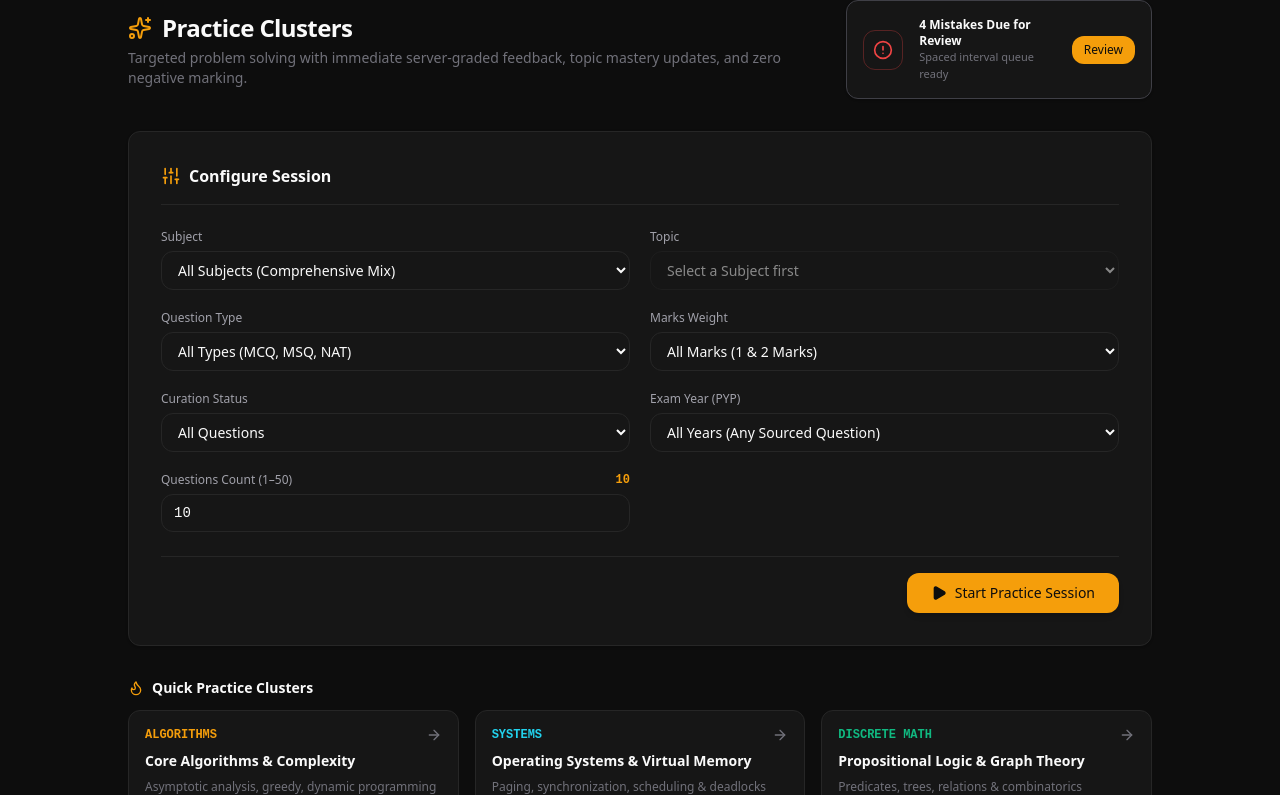
it: PracticePage › clamps question count input between 1 and 50
Step 1. Replace the text in the number field named "Question Count" with "999" → (396, 513), box [161, 494, 630, 532]
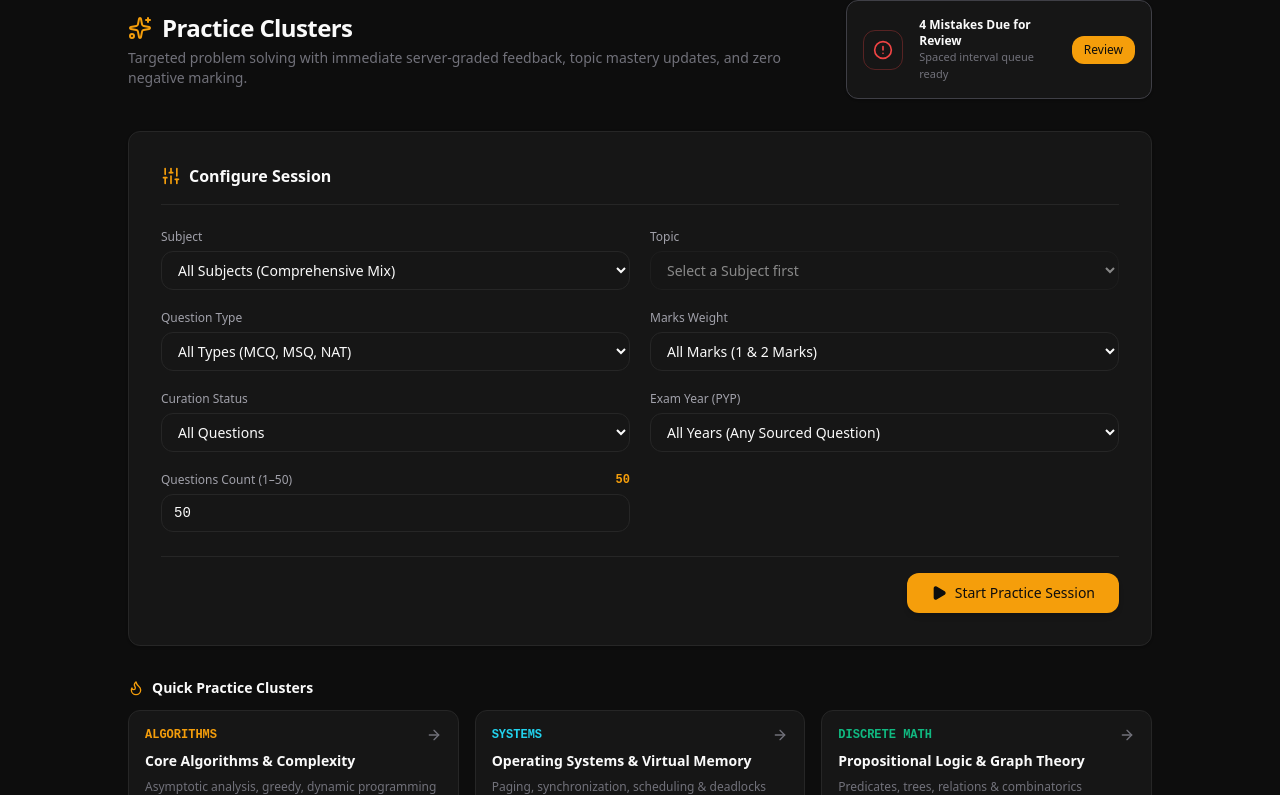
Check: the number field named "Question Count" holds "50"
Step 2. Replace the text in the number field named "Question Count" with "-5" → (396, 513), box [161, 494, 630, 532]
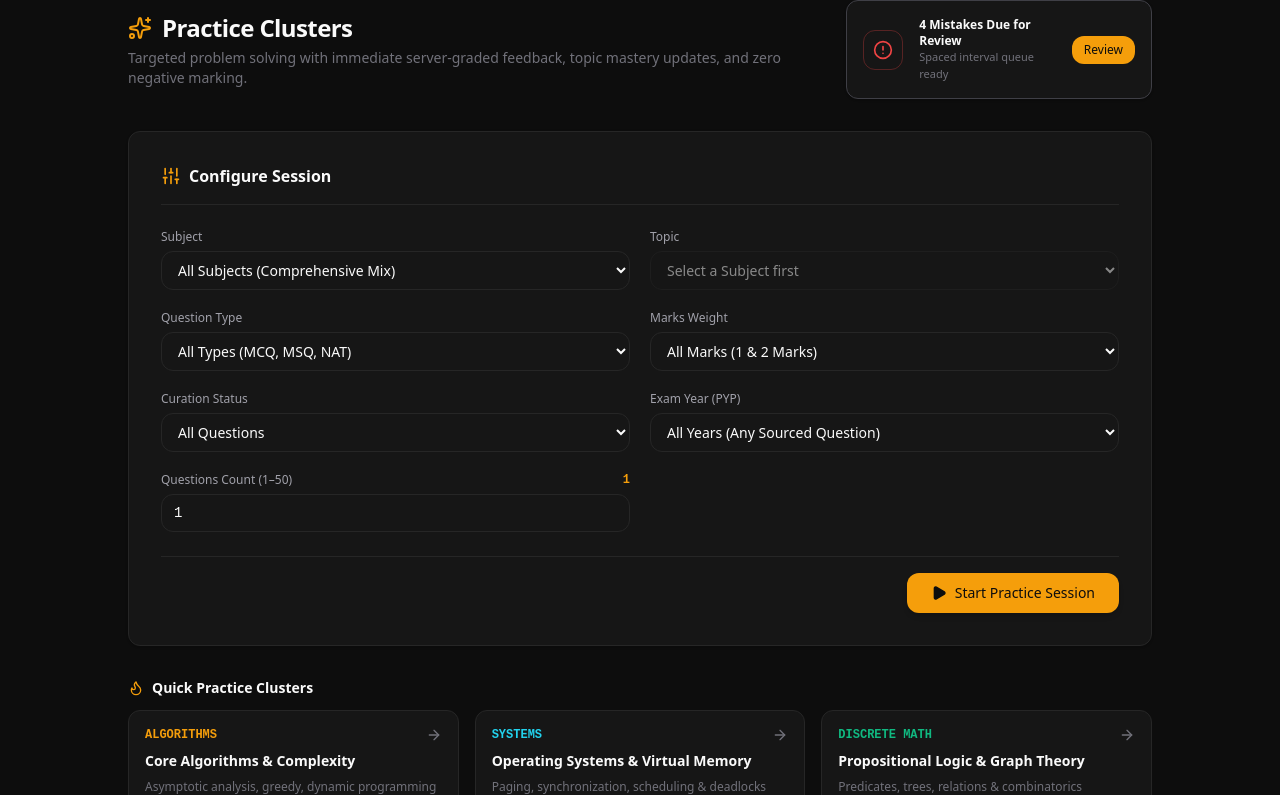
Check: the number field named "Question Count" holds "1", box [161, 494, 630, 532]
